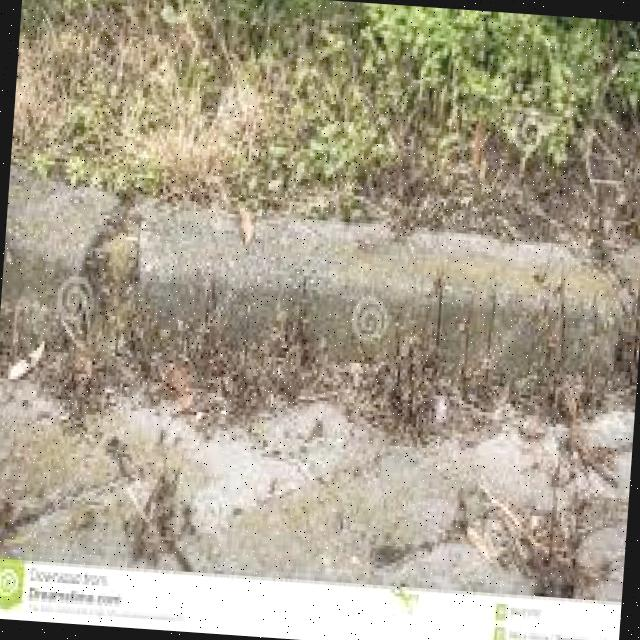curb: (1, 193, 625, 412)
